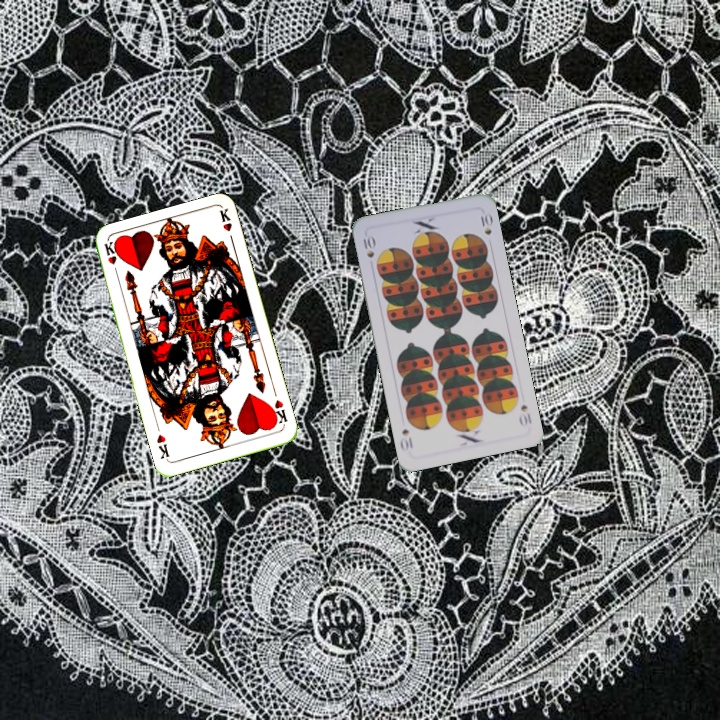HK: (100, 238, 121, 279), (267, 396, 290, 428)
S10: (515, 400, 534, 428), (359, 231, 377, 260)
